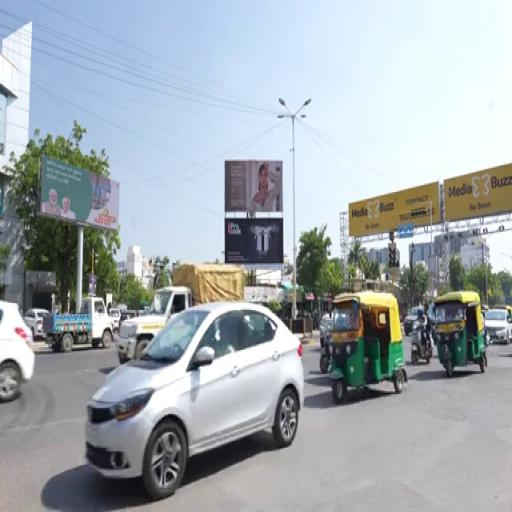Car: (86, 302, 303, 499), (0, 301, 35, 402), (485, 308, 511, 344), (24, 309, 51, 339), (403, 307, 423, 336), (320, 315, 332, 347), (109, 308, 120, 332)
